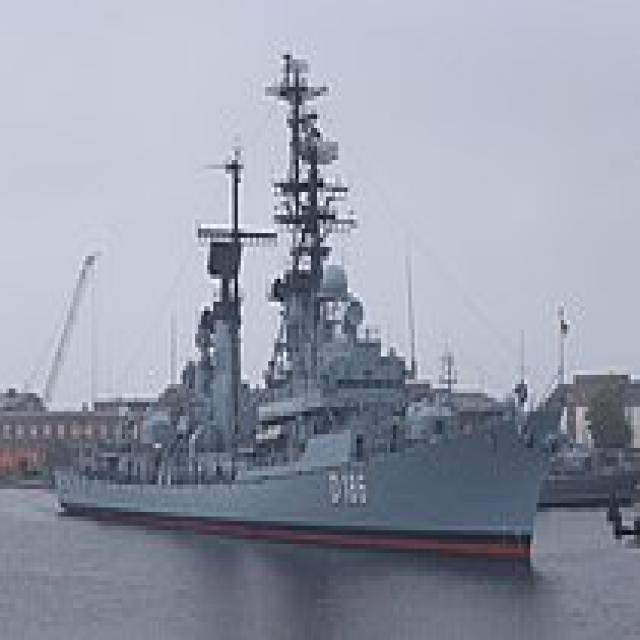Warship: (52, 46, 545, 562)
